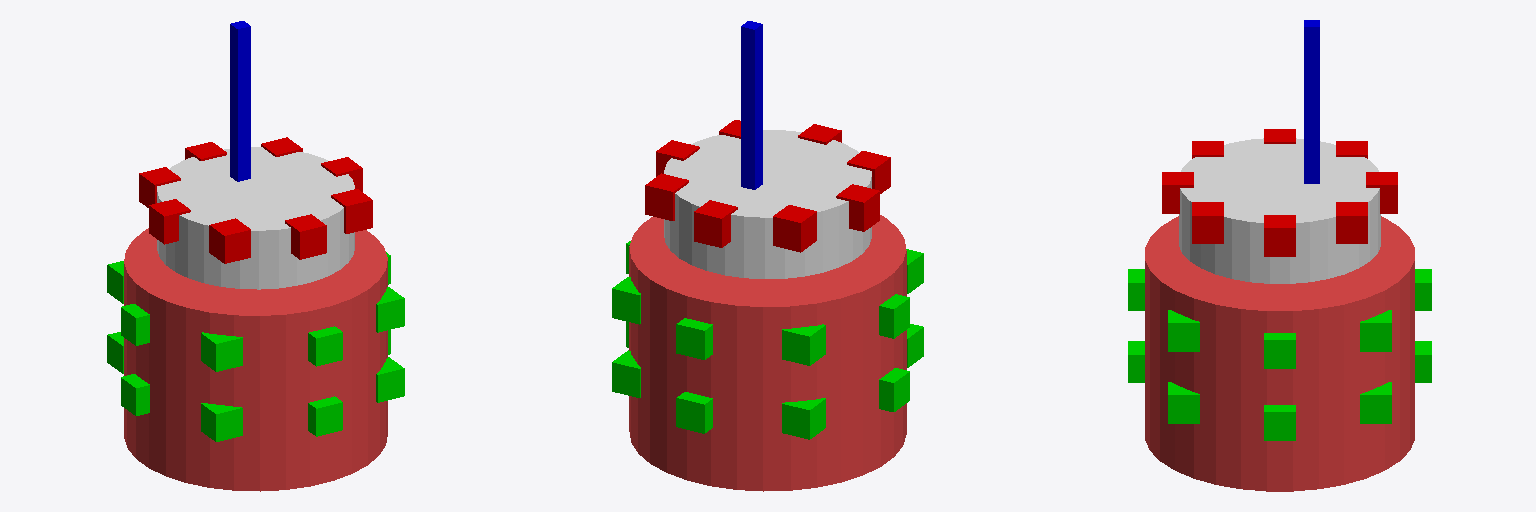
The robot description file, URDF, robot "random_bottle":
<?xml version="1.0"?>
<robot name="random_bottle">

  <!-- Define the cap link -->
  <link name="link1">
    <visual>
      <geometry>
        <mesh filename="cap.obj" scale="1.0 1.0 1.0"/>
      </geometry>
       <material name="white">
        <color rgba=".9 .9 .9 1"/>
      </material>

    </visual>
    <collision>
      <geometry>
        <mesh filename="cap.obj" scale="1.0 1.0 1.0"/>
      </geometry>
    </collision>

    <inertial>
      <mass value="0.019524422948220398"/> <!-- You can adjust the mass as needed -->
      <origin rpy="0 0 0" xyz="0 0 0"/>
      <inertia ixx="5.745037221901823e-06" ixy="0.0" ixz="0.0" iyy="5.745037221901823e-06" iyz="0.0" izz="1.0061479483075449e-05"/>
    </inertial>
  </link>
  
    <link name="l10">
    <visual>
      <geometry>
        <box size="0.01 0.01 0.01"/> 
      </geometry>

      <material name="red">
        <color rgba="0.9 0.0 0.0 1"/>
      </material>

    </visual>

    <inertial>
      <mass value="0.0001"/> <!-- You can adjust the mass as needed -->
      <origin rpy="0 0 0" xyz="0 0 -0.00"/> <!-- Offset by half of link1's height + 0.03m for the margin -->
      <inertia ixx="0.000000003" ixy="0.0" ixz="0.0" iyy="0.0000003" iyz="0.0" izz="0.00000003"/>
    </inertial>

  </link>
  <link name="l11">
    <visual>
      <geometry>
        <box size="0.01 0.01 0.01"/> 
      </geometry>

      <material name="red">
        <color rgba="0.9 0.0 0.0 1"/>
      </material>

    </visual>

    <inertial>
      <mass value="0.0001"/> <!-- You can adjust the mass as needed -->
      <origin rpy="0 0 0" xyz="0 0 -0.00"/> <!-- Offset by half of link1's height + 0.03m for the margin -->
      <inertia ixx="0.000000003" ixy="0.0" ixz="0.0" iyy="0.0000003" iyz="0.0" izz="0.00000003"/>
    </inertial>

  </link>
  <link name="l12">
    <visual>
      <geometry>
        <box size="0.01 0.01 0.01"/> 
      </geometry>

      <material name="red">
        <color rgba="0.9 0.0 0.0 1"/>
      </material>

    </visual>

    <inertial>
      <mass value="0.0001"/> <!-- You can adjust the mass as needed -->
      <origin rpy="0 0 0" xyz="0 0 -0.00"/> <!-- Offset by half of link1's height + 0.03m for the margin -->
      <inertia ixx="0.000000003" ixy="0.0" ixz="0.0" iyy="0.0000003" iyz="0.0" izz="0.00000003"/>
    </inertial>

  </link>
  <link name="l13">
    <visual>
      <geometry>
        <box size="0.01 0.01 0.01"/> 
      </geometry>

      <material name="red">
        <color rgba="0.9 0.0 0.0 1"/>
      </material>

    </visual>

    <inertial>
      <mass value="0.0001"/> <!-- You can adjust the mass as needed -->
      <origin rpy="0 0 0" xyz="0 0 -0.00"/> <!-- Offset by half of link1's height + 0.03m for the margin -->
      <inertia ixx="0.000000003" ixy="0.0" ixz="0.0" iyy="0.0000003" iyz="0.0" izz="0.00000003"/>
    </inertial>

  </link>
  <link name="l10b">
    <visual>
      <geometry>
        <box size="0.01 0.01 0.01"/> 
      </geometry>

      <material name="red">
        <color rgba="0.9 0.0 0.0 1"/>
      </material>

    </visual>

    <inertial>
      <mass value="0.0001"/> <!-- You can adjust the mass as needed -->
      <origin rpy="0 0 0" xyz="0 0 -0.00"/> <!-- Offset by half of link1's height + 0.03m for the margin -->
      <inertia ixx="0.000000003" ixy="0.0" ixz="0.0" iyy="0.0000003" iyz="0.0" izz="0.00000003"/>
    </inertial>

  </link>
  <link name="l11b">
    <visual>
      <geometry>
        <box size="0.01 0.01 0.01"/> 
      </geometry>

      <material name="red">
        <color rgba="0.9 0.0 0.0 1"/>
      </material>

    </visual>

    <inertial>
      <mass value="0.0001"/> <!-- You can adjust the mass as needed -->
      <origin rpy="0 0 0" xyz="0 0 -0.00"/> <!-- Offset by half of link1's height + 0.03m for the margin -->
      <inertia ixx="0.000000003" ixy="0.0" ixz="0.0" iyy="0.0000003" iyz="0.0" izz="0.00000003"/>
    </inertial>

  </link>
  <link name="l12b">
    <visual>
      <geometry>
        <box size="0.01 0.01 0.01"/> 
      </geometry>

      <material name="red">
        <color rgba="0.9 0.0 0.0 1"/>
      </material>

    </visual>

    <inertial>
      <mass value="0.0001"/> <!-- You can adjust the mass as needed -->
      <origin rpy="0 0 0" xyz="0 0 -0.00"/> <!-- Offset by half of link1's height + 0.03m for the margin -->
      <inertia ixx="0.000000003" ixy="0.0" ixz="0.0" iyy="0.0000003" iyz="0.0" izz="0.00000003"/>
    </inertial>

  </link>
  <link name="l13b">
    <visual>
      <geometry>
        <box size="0.01 0.01 0.01"/> 
      </geometry>

      <material name="red">
        <color rgba="0.9 0.0 0.0 1"/>
      </material>

    </visual>

    <inertial>
      <mass value="0.0001"/> <!-- You can adjust the mass as needed -->
      <origin rpy="0 0 0" xyz="0 0 -0.00"/> <!-- Offset by half of link1's height + 0.03m for the margin -->
      <inertia ixx="0.000000003" ixy="0.0" ixz="0.0" iyy="0.0000003" iyz="0.0" izz="0.00000003"/>
    </inertial>

  </link>
  <link name="l20">
    <visual>
      <geometry>
        <box size="0.01 0.01 0.01"/> 
      </geometry>

      <material name="red">
        <color rgba="0.0 0.9 0.0 1"/>
      </material>

    </visual>

    <inertial>
      <mass value="0.0001"/> <!-- You can adjust the mass as needed -->
      <origin rpy="0 0 0" xyz="0 0 -0.00"/> <!-- Offset by half of link1's height + 0.03m for the margin -->
      <inertia ixx="0.000000003" ixy="0.0" ixz="0.0" iyy="0.0000003" iyz="0.0" izz="0.00000003"/>
    </inertial>

  </link>
  <link name="l21">
    <visual>
      <geometry>
        <box size="0.01 0.01 0.01"/> 
      </geometry>

      <material name="red">
        <color rgba="0.0 0.9 0.0 1"/>
      </material>

    </visual>

    <inertial>
      <mass value="0.0001"/> <!-- You can adjust the mass as needed -->
      <origin rpy="0 0 0" xyz="0 0 -0.00"/> <!-- Offset by half of link1's height + 0.03m for the margin -->
      <inertia ixx="0.000000003" ixy="0.0" ixz="0.0" iyy="0.0000003" iyz="0.0" izz="0.00000003"/>
    </inertial>

  </link>
  <link name="l22">
    <visual>
      <geometry>
        <box size="0.01 0.01 0.01"/> 
      </geometry>

      <material name="red">
        <color rgba="0.0 0.9 0.0 1"/>
      </material>

    </visual>

    <inertial>
      <mass value="0.0001"/> <!-- You can adjust the mass as needed -->
      <origin rpy="0 0 0" xyz="0 0 -0.00"/> <!-- Offset by half of link1's height + 0.03m for the margin -->
      <inertia ixx="0.000000003" ixy="0.0" ixz="0.0" iyy="0.0000003" iyz="0.0" izz="0.00000003"/>
    </inertial>

  </link>
  <link name="l23">
    <visual>
      <geometry>
        <box size="0.01 0.01 0.01"/> 
      </geometry>

      <material name="red">
        <color rgba="0.0 0.9 0.0 1"/>
      </material>

    </visual>

    <inertial>
      <mass value="0.0001"/> <!-- You can adjust the mass as needed -->
      <origin rpy="0 0 0" xyz="0 0 -0.00"/> <!-- Offset by half of link1's height + 0.03m for the margin -->
      <inertia ixx="0.000000003" ixy="0.0" ixz="0.0" iyy="0.0000003" iyz="0.0" izz="0.00000003"/>
    </inertial>

  </link>
  <link name="l24">
    <visual>
      <geometry>
        <box size="0.01 0.01 0.01"/> 
      </geometry>

      <material name="red">
        <color rgba="0.0 0.9 0.0 1"/>
      </material>

    </visual>

    <inertial>
      <mass value="0.0001"/> <!-- You can adjust the mass as needed -->
      <origin rpy="0 0 0" xyz="0 0 -0.00"/> <!-- Offset by half of link1's height + 0.03m for the margin -->
      <inertia ixx="0.000000003" ixy="0.0" ixz="0.0" iyy="0.0000003" iyz="0.0" izz="0.00000003"/>
    </inertial>

  </link>
  <link name="l25">
    <visual>
      <geometry>
        <box size="0.01 0.01 0.01"/> 
      </geometry>

      <material name="red">
        <color rgba="0.0 0.9 0.0 1"/>
      </material>

    </visual>

    <inertial>
      <mass value="0.0001"/> <!-- You can adjust the mass as needed -->
      <origin rpy="0 0 0" xyz="0 0 -0.00"/> <!-- Offset by half of link1's height + 0.03m for the margin -->
      <inertia ixx="0.000000003" ixy="0.0" ixz="0.0" iyy="0.0000003" iyz="0.0" izz="0.00000003"/>
    </inertial>

  </link>
  <link name="l26">
    <visual>
      <geometry>
        <box size="0.01 0.01 0.01"/> 
      </geometry>

      <material name="red">
        <color rgba="0.0 0.9 0.0 1"/>
      </material>

    </visual>

    <inertial>
      <mass value="0.0001"/> <!-- You can adjust the mass as needed -->
      <origin rpy="0 0 0" xyz="0 0 -0.00"/> <!-- Offset by half of link1's height + 0.03m for the margin -->
      <inertia ixx="0.000000003" ixy="0.0" ixz="0.0" iyy="0.0000003" iyz="0.0" izz="0.00000003"/>
    </inertial>

  </link>
  <link name="l27">
    <visual>
      <geometry>
        <box size="0.01 0.01 0.01"/> 
      </geometry>

      <material name="red">
        <color rgba="0.0 0.9 0.0 1"/>
      </material>

    </visual>

    <inertial>
      <mass value="0.0001"/> <!-- You can adjust the mass as needed -->
      <origin rpy="0 0 0" xyz="0 0 -0.00"/> <!-- Offset by half of link1's height + 0.03m for the margin -->
      <inertia ixx="0.000000003" ixy="0.0" ixz="0.0" iyy="0.0000003" iyz="0.0" izz="0.00000003"/>
    </inertial>

  </link>
  <link name="l30">
    <visual>
      <geometry>
        <box size="0.01 0.01 0.01"/> 
      </geometry>

      <material name="red">
        <color rgba="0.0 0.9 0.0 1"/>
      </material>

    </visual>

    <inertial>
      <mass value="0.0001"/> <!-- You can adjust the mass as needed -->
      <origin rpy="0 0 0" xyz="0 0 -0.00"/> <!-- Offset by half of link1's height + 0.03m for the margin -->
      <inertia ixx="0.000000003" ixy="0.0" ixz="0.0" iyy="0.0000003" iyz="0.0" izz="0.00000003"/>
    </inertial>

  </link>
  <link name="l31">
    <visual>
      <geometry>
        <box size="0.01 0.01 0.01"/> 
      </geometry>

      <material name="red">
        <color rgba="0.0 0.9 0.0 1"/>
      </material>

    </visual>

    <inertial>
      <mass value="0.0001"/> <!-- You can adjust the mass as needed -->
      <origin rpy="0 0 0" xyz="0 0 -0.00"/> <!-- Offset by half of link1's height + 0.03m for the margin -->
      <inertia ixx="0.000000003" ixy="0.0" ixz="0.0" iyy="0.0000003" iyz="0.0" izz="0.00000003"/>
    </inertial>

  </link>
  <link name="l32">
    <visual>
      <geometry>
        <box size="0.01 0.01 0.01"/> 
      </geometry>

      <material name="red">
        <color rgba="0.0 0.9 0.0 1"/>
      </material>

    </visual>

    <inertial>
      <mass value="0.0001"/> <!-- You can adjust the mass as needed -->
      <origin rpy="0 0 0" xyz="0 0 -0.00"/> <!-- Offset by half of link1's height + 0.03m for the margin -->
      <inertia ixx="0.000000003" ixy="0.0" ixz="0.0" iyy="0.0000003" iyz="0.0" izz="0.00000003"/>
    </inertial>

  </link>
  <link name="l33">
    <visual>
      <geometry>
        <box size="0.01 0.01 0.01"/> 
      </geometry>

      <material name="red">
        <color rgba="0.0 0.9 0.0 1"/>
      </material>

    </visual>

    <inertial>
      <mass value="0.0001"/> <!-- You can adjust the mass as needed -->
      <origin rpy="0 0 0" xyz="0 0 -0.00"/> <!-- Offset by half of link1's height + 0.03m for the margin -->
      <inertia ixx="0.000000003" ixy="0.0" ixz="0.0" iyy="0.0000003" iyz="0.0" izz="0.00000003"/>
    </inertial>

  </link>
  <link name="l34">
    <visual>
      <geometry>
        <box size="0.01 0.01 0.01"/> 
      </geometry>

      <material name="red">
        <color rgba="0.0 0.9 0.0 1"/>
      </material>

    </visual>

    <inertial>
      <mass value="0.0001"/> <!-- You can adjust the mass as needed -->
      <origin rpy="0 0 0" xyz="0 0 -0.00"/> <!-- Offset by half of link1's height + 0.03m for the margin -->
      <inertia ixx="0.000000003" ixy="0.0" ixz="0.0" iyy="0.0000003" iyz="0.0" izz="0.00000003"/>
    </inertial>

  </link>
  <link name="l35">
    <visual>
      <geometry>
        <box size="0.01 0.01 0.01"/> 
      </geometry>

      <material name="red">
        <color rgba="0.0 0.9 0.0 1"/>
      </material>

    </visual>

    <inertial>
      <mass value="0.0001"/> <!-- You can adjust the mass as needed -->
      <origin rpy="0 0 0" xyz="0 0 -0.00"/> <!-- Offset by half of link1's height + 0.03m for the margin -->
      <inertia ixx="0.000000003" ixy="0.0" ixz="0.0" iyy="0.0000003" iyz="0.0" izz="0.00000003"/>
    </inertial>

  </link>
  <link name="l36">
    <visual>
      <geometry>
        <box size="0.01 0.01 0.01"/> 
      </geometry>

      <material name="red">
        <color rgba="0.0 0.9 0.0 1"/>
      </material>

    </visual>

    <inertial>
      <mass value="0.0001"/> <!-- You can adjust the mass as needed -->
      <origin rpy="0 0 0" xyz="0 0 -0.00"/> <!-- Offset by half of link1's height + 0.03m for the margin -->
      <inertia ixx="0.000000003" ixy="0.0" ixz="0.0" iyy="0.0000003" iyz="0.0" izz="0.00000003"/>
    </inertial>

  </link>
  <link name="l37">
    <visual>
      <geometry>
        <box size="0.01 0.01 0.01"/> 
      </geometry>

      <material name="red">
        <color rgba="0.0 0.9 0.0 1"/>
      </material>

    </visual>

    <inertial>
      <mass value="0.0001"/> <!-- You can adjust the mass as needed -->
      <origin rpy="0 0 0" xyz="0 0 -0.00"/> <!-- Offset by half of link1's height + 0.03m for the margin -->
      <inertia ixx="0.000000003" ixy="0.0" ixz="0.0" iyy="0.0000003" iyz="0.0" izz="0.00000003"/>
    </inertial>

  </link>

  
  <link name="hint">
    <visual>
      <geometry>
        <box size="0.005 0.005 0.07"/> <!-- 9cm x 9cm x 6cm -->
      </geometry>
       <material name="blue">
        <color rgba=".0 .0 .9 1"/>
      </material>
    </visual>

    <inertial>
      <mass value="0.0001"/> <!-- You can adjust the mass as needed -->
      <origin rpy="0 0 0" xyz="0 0 -0.00"/> <!-- Offset by half of link1's height + 0.03m for the margin -->
      <inertia ixx="0.000000003" ixy="0.0" ixz="0.0" iyy="0.0000003" iyz="0.0" izz="0.00000003"/>
    </inertial>
    

  </link>

  <!-- Define the base link -->
  <link name="link2">
    <visual>
      <geometry>
        <mesh filename="base.obj" scale="1.0 1.0 1.0"/>
      </geometry>
      <material name="red">
        <color rgba=".9 .3 .3 1"/>
      </material>

    </visual>

    <collision>
      <geometry>
        <mesh filename="base.obj" scale="1.0 1.0 1.0"/>
      </geometry>
    </collision>

    <inertial>
      <mass value="0.04746295616708891"/> <!-- You can adjust the mass as needed -->
      <origin rpy="0 0 0" xyz="0 0 -0.00"/> <!-- Offset by half of link1's height + 0.03m for the margin -->
      <inertia ixx="3.7159547280272676e-05" ixy="0.0" ixz="0.0" iyy="3.7159547280272676e-05" iyz="0.0" izz="4.329142750533323e-05"/>
    </inertial>
  </link>


  
  <link name="brake">
   <visual>
      <geometry>
        <box size="0.02 0.02 0.005"/> <!-- 6cm x 6cm x 2cm -->
      </geometry>
       <material name="gray">
        <color rgba=".5 .5 .5 1"/>
      </material>

    </visual>
    <collision>
      <geometry>
        <box size="0.02 0.02 0.005"/> <!-- 6cm x 6cm x 2cm -->
      </geometry>
    </collision>

    <inertial>
      <mass value="0.005"/> <!-- You can adjust the mass as needed -->
      <origin rpy="0 0 0" xyz="0 0 0"/>
      <inertia ixx="0.00018" ixy="0.0" ixz="0.0" iyy="0.00018" iyz="0.0" izz="0.00018"/>
    </inertial>
  </link>

  <!-- Define the joint connecting link1 and link2 as a revolute joint along z-axis -->
  <joint name="fix_joint" type="fixed">
    <parent link="link1"/>
    <child link="hint"/>
    <origin rpy="0 0 0" xyz="0 0.01 0.03"/> <!-- Offset by half of link1's height for the margin -->
    <axis xyz="0 0 1"/>
  </joint>

  <!-- Define the joint connecting link1 and link2 as a revolute joint along z-axis -->
  <joint name="brake_joint" type="prismatic">
    <parent link="link2"/>
    <child link="brake"/>
    <origin rpy="0 0 0" xyz="0 0 0.052267058834885964"/> <!-- Offset by half of link1's height for the margin -->
    <axis xyz="0 0 1"/>
    <limit lower="-0.02" upper="0.02" />
    <!-- <dynamics damping="0.0" friction="0.0"/> -->
  </joint>


  <joint name="rev_joint" type="revolute">
    <parent link="link2"/>
    <child link="link1"/>
    <origin rpy="0 0 0" xyz="0 0 0.0463143065468216"/> <!-- Offset by half of link1's height for the margin -->
    <axis xyz="0 0 1"/>
    <!-- No joint limits -->
    <dynamics damping="0.0" friction="0.0"/>
  </joint>


  <!-- marker -->
    <joint name="jl10" type="fixed">
    <parent link="link1"/>
    <child link="l10"/>
    <origin rpy="0 0 0" xyz="0.0 0.032103827804284155 0.006285825686419309"/> <!-- Offset by half of link1's height for the margin -->
    <axis xyz="0 0 1"/>
  </joint>
  <joint name="jl11" type="fixed">
    <parent link="link1"/>
    <child link="l11"/>
    <origin rpy="0 0 0" xyz="0.0227008340383213 0.022700834646587807 0.006285825686419309"/> <!-- Offset by half of link1's height for the margin -->
    <axis xyz="0 0 1"/>
  </joint>
  <joint name="jl12" type="fixed">
    <parent link="link1"/>
    <child link="l12"/>
    <origin rpy="0 0 0" xyz="0.03210382780428414 8.602187459993608e-10 0.006285825686419309"/> <!-- Offset by half of link1's height for the margin -->
    <axis xyz="0 0 1"/>
  </joint>
  <joint name="jl13" type="fixed">
    <parent link="link1"/>
    <child link="l13"/>
    <origin rpy="0 0 0" xyz="0.022700835254854293 -0.022700833430054777 0.006285825686419309"/> <!-- Offset by half of link1's height for the margin -->
    <axis xyz="0 0 1"/>
  </joint>
  <joint name="jl10b" type="fixed">
    <parent link="link1"/>
    <child link="l10b"/>
    <origin rpy="0 0 0" xyz="1.720437491998721e-09 -0.032103827804284106 0.006285825686419309"/> <!-- Offset by half of link1's height for the margin -->
    <axis xyz="0 0 1"/>
  </joint>
  <joint name="jl11b" type="fixed">
    <parent link="link1"/>
    <child link="l11b"/>
    <origin rpy="0 0 0" xyz="-0.022700832821788232 -0.022700835863120782 0.006285825686419309"/> <!-- Offset by half of link1's height for the margin -->
    <axis xyz="0 0 1"/>
  </joint>
  <joint name="jl12b" type="fixed">
    <parent link="link1"/>
    <child link="l12b"/>
    <origin rpy="0 0 0" xyz="-0.03210382780428405 -2.5806562237411164e-09 0.006285825686419309"/> <!-- Offset by half of link1's height for the margin -->
    <axis xyz="0 0 1"/>
  </joint>
  <joint name="jl13b" type="fixed">
    <parent link="link1"/>
    <child link="l13b"/>
    <origin rpy="0 0 0" xyz="-0.02270083647138723 0.022700832213521684 0.006285825686419309"/> <!-- Offset by half of link1's height for the margin -->
    <axis xyz="0 0 1"/>
  </joint>
  <joint name="jl20" type="fixed">
    <parent link="link2"/>
    <child link="l20"/>
    <origin rpy="0 0 0" xyz="0.0 0.042710883882657376 0.01878858392809296"/> <!-- Offset by half of link1's height for the margin -->
    <axis xyz="0 0 1"/>
  </joint>
  <joint name="jl21" type="fixed">
    <parent link="link2"/>
    <child link="l21"/>
    <origin rpy="0 0 0" xyz="0.030201155219279827 0.030201156028516665 0.01878858392809296"/> <!-- Offset by half of link1's height for the margin -->
    <axis xyz="0 0 1"/>
  </joint>
  <joint name="jl22" type="fixed">
    <parent link="link2"/>
    <child link="l22"/>
    <origin rpy="0 0 0" xyz="0.04271088388265736 1.1444337166909706e-09 0.01878858392809296"/> <!-- Offset by half of link1's height for the margin -->
    <axis xyz="0 0 1"/>
  </joint>
  <joint name="jl23" type="fixed">
    <parent link="link2"/>
    <child link="l23"/>
    <origin rpy="0 0 0" xyz="0.030201156837753478 -0.030201154410042966 0.01878858392809296"/> <!-- Offset by half of link1's height for the margin -->
    <axis xyz="0 0 1"/>
  </joint>
  <joint name="jl24" type="fixed">
    <parent link="link2"/>
    <child link="l24"/>
    <origin rpy="0 0 0" xyz="2.2888674333819405e-09 -0.04271088388265731 0.01878858392809296"/> <!-- Offset by half of link1's height for the margin -->
    <axis xyz="0 0 1"/>
  </joint>
  <joint name="jl25" type="fixed">
    <parent link="link2"/>
    <child link="l25"/>
    <origin rpy="0 0 0" xyz="-0.030201153600806073 -0.03020115764699029 0.01878858392809296"/> <!-- Offset by half of link1's height for the margin -->
    <axis xyz="0 0 1"/>
  </joint>
  <joint name="jl26" type="fixed">
    <parent link="link2"/>
    <child link="l26"/>
    <origin rpy="0 0 0" xyz="-0.04271088388265724 -3.433301131105466e-09 0.01878858392809296"/> <!-- Offset by half of link1's height for the margin -->
    <axis xyz="0 0 1"/>
  </joint>
  <joint name="jl27" type="fixed">
    <parent link="link2"/>
    <child link="l27"/>
    <origin rpy="0 0 0" xyz="-0.030201158456227055 0.030201152791569177 0.01878858392809296"/> <!-- Offset by half of link1's height for the margin -->
    <axis xyz="0 0 1"/>
  </joint>
  <joint name="jl30" type="fixed">
    <parent link="link2"/>
    <child link="l30"/>
    <origin rpy="0 0 0" xyz="0.0 0.042710883882657376 -0.00626286130936432"/> <!-- Offset by half of link1's height for the margin -->
    <axis xyz="0 0 1"/>
  </joint>
  <joint name="jl31" type="fixed">
    <parent link="link2"/>
    <child link="l31"/>
    <origin rpy="0 0 0" xyz="0.030201155219279827 0.030201156028516665 -0.00626286130936432"/> <!-- Offset by half of link1's height for the margin -->
    <axis xyz="0 0 1"/>
  </joint>
  <joint name="jl32" type="fixed">
    <parent link="link2"/>
    <child link="l32"/>
    <origin rpy="0 0 0" xyz="0.04271088388265736 1.1444337166909706e-09 -0.00626286130936432"/> <!-- Offset by half of link1's height for the margin -->
    <axis xyz="0 0 1"/>
  </joint>
  <joint name="jl33" type="fixed">
    <parent link="link2"/>
    <child link="l33"/>
    <origin rpy="0 0 0" xyz="0.030201156837753478 -0.030201154410042966 -0.00626286130936432"/> <!-- Offset by half of link1's height for the margin -->
    <axis xyz="0 0 1"/>
  </joint>
  <joint name="jl34" type="fixed">
    <parent link="link2"/>
    <child link="l34"/>
    <origin rpy="0 0 0" xyz="2.2888674333819405e-09 -0.04271088388265731 -0.00626286130936432"/> <!-- Offset by half of link1's height for the margin -->
    <axis xyz="0 0 1"/>
  </joint>
  <joint name="jl35" type="fixed">
    <parent link="link2"/>
    <child link="l35"/>
    <origin rpy="0 0 0" xyz="-0.030201153600806073 -0.03020115764699029 -0.00626286130936432"/> <!-- Offset by half of link1's height for the margin -->
    <axis xyz="0 0 1"/>
  </joint>
  <joint name="jl36" type="fixed">
    <parent link="link2"/>
    <child link="l36"/>
    <origin rpy="0 0 0" xyz="-0.04271088388265724 -3.433301131105466e-09 -0.00626286130936432"/> <!-- Offset by half of link1's height for the margin -->
    <axis xyz="0 0 1"/>
  </joint>
  <joint name="jl37" type="fixed">
    <parent link="link2"/>
    <child link="l37"/>
    <origin rpy="0 0 0" xyz="-0.030201158456227055 0.030201152791569177 -0.00626286130936432"/> <!-- Offset by half of link1's height for the margin -->
    <axis xyz="0 0 1"/>
  </joint>



</robot>

--- What the picture shows (computed from the rendered views, not written in the file) ---
Views: 3 orthographic renders of the robot side by side, from view 1: azimuth 30°, elevation 25°; view 2: azimuth 150°, elevation 25°; view 3: azimuth 270°, elevation 25°.
Robot: random_bottle — 28 links, 27 joints (1 revolute, 1 prismatic, 25 fixed); root link link2; default pose: every joint at zero.
Links seen in each view (by area): view 1: link2, link1, hint, l11b, l10b, l25, l35, l12b, l13, l34, l24, l33 (+8 smaller); view 2: link2, link1, hint, l13b, l10, l37, l27, l12b, l11, l20, l30, l26 (+8 smaller); view 3: link2, link1, hint, l11, l12, l13, l21, l23, l31, l33, l22, l32 (+6 smaller).
Link boxes in pixels (box(x1,y1,x2,y2)): link2: box(124, 228, 387, 491); link1: box(157, 147, 354, 289); hint: box(230, 21, 250, 181); l11b: box(209, 218, 250, 263); l10b: box(285, 214, 326, 259); l25: box(201, 332, 242, 371); l35: box(201, 403, 242, 441); l12b: box(149, 199, 190, 244); l13: box(331, 189, 372, 233); l34: box(308, 396, 342, 436); l24: box(308, 326, 342, 366); l33: box(376, 357, 404, 402); link2: box(629, 215, 906, 491); link1: box(664, 130, 871, 278); hint: box(741, 21, 762, 189); l13b: box(773, 205, 816, 252); l10: box(694, 200, 737, 247); l37: box(782, 398, 825, 439); l27: box(782, 324, 825, 365); l12b: box(836, 184, 879, 231); l11: box(645, 173, 688, 220); l20: box(676, 318, 712, 359); l30: box(676, 392, 712, 433); l26: box(879, 294, 909, 338); link2: box(1145, 216, 1414, 491); link1: box(1179, 138, 1380, 283); hint: box(1304, 20, 1319, 183); l11: box(1336, 202, 1367, 243); l12: box(1264, 215, 1295, 256); l13: box(1192, 202, 1223, 243); l21: box(1360, 310, 1391, 351); l23: box(1168, 310, 1199, 351); l31: box(1360, 382, 1391, 423); l33: box(1168, 382, 1199, 423); l22: box(1264, 333, 1295, 368); l32: box(1264, 405, 1295, 440).
Bounding box of the posed robot: 0.0954 × 0.0954 × 0.1426 m (x, y, z).
2 mesh visuals loaded from 2 distinct referenced files (2 OBJ).
